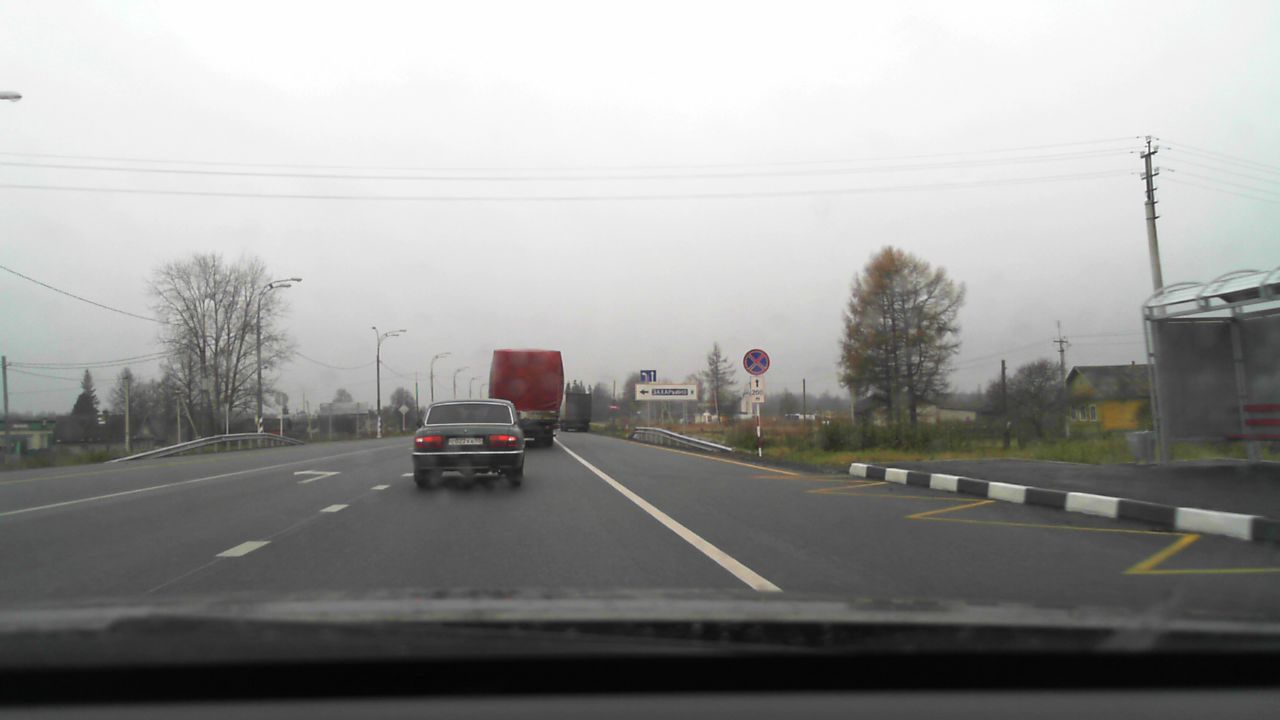No Parking: (742, 348, 770, 375)
